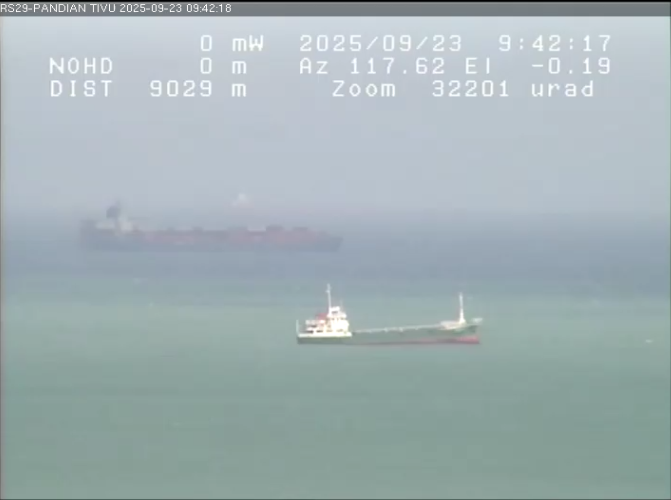CARGO_SHIPS: (61, 185, 373, 267), (282, 277, 508, 350)
